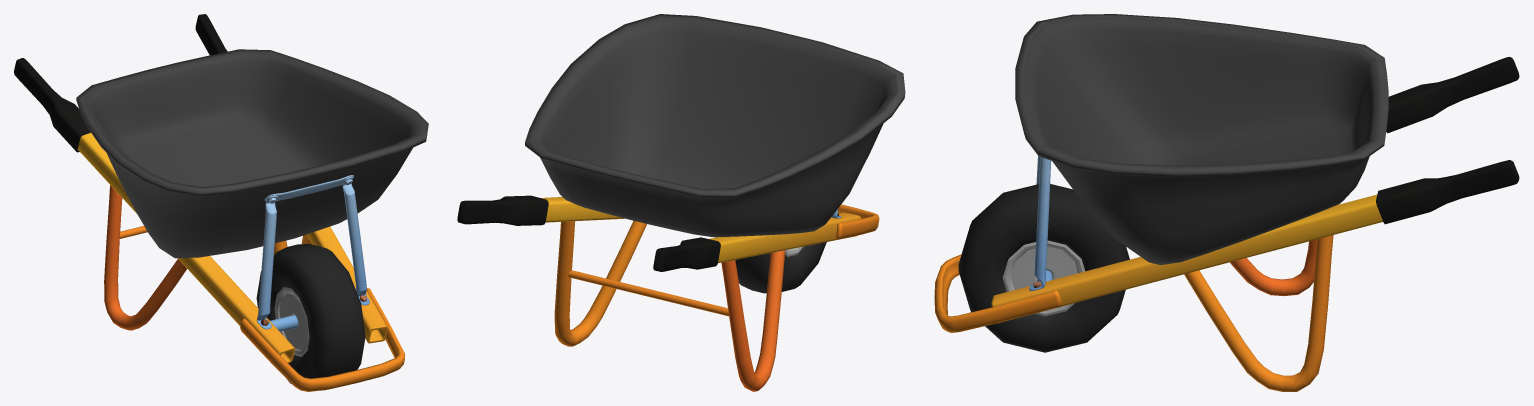
Rendered from araba 1.fbx.
3 views of the same model, side by side, from view 1: azimuth 30°, elevation 25°; view 2: azimuth 150°, elevation 25°; view 3: azimuth 270°, elevation 25° (orthographic). The views are drawn at different scales.
Parts seen in each view (by area): view 1: araba; view 2: araba; view 3: araba.
Boxes of the visible parts, x1,y1,x2,y2 form: araba: [14, 14, 428, 391]; araba: [457, 14, 905, 391]; araba: [934, 14, 1519, 391].
Size of the model in its own units: 411 by 324 by 656.
